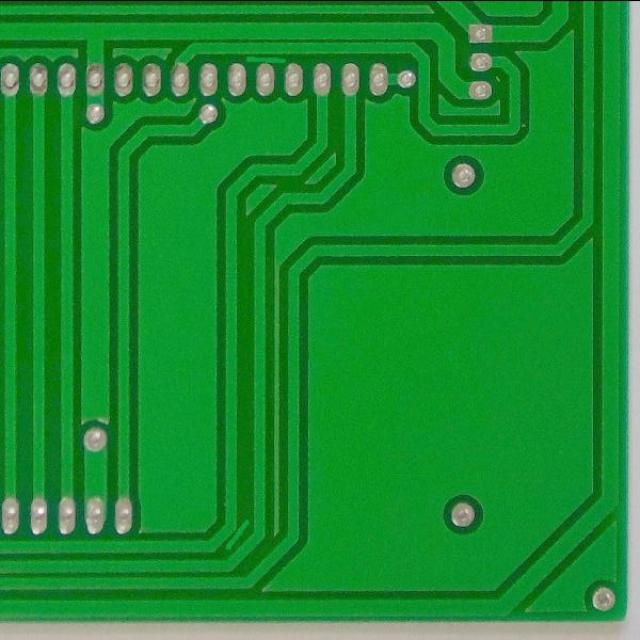Spurious_Cooper: (218, 513, 256, 556), (243, 53, 289, 65)
